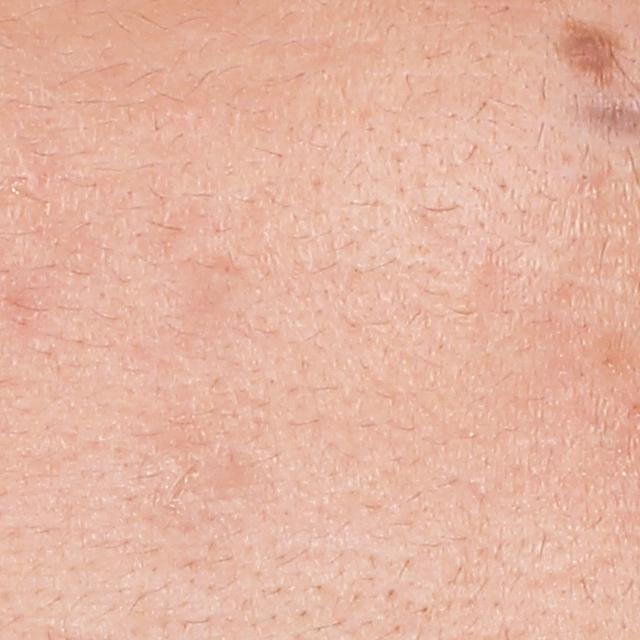melasma: (557, 21, 624, 70)
